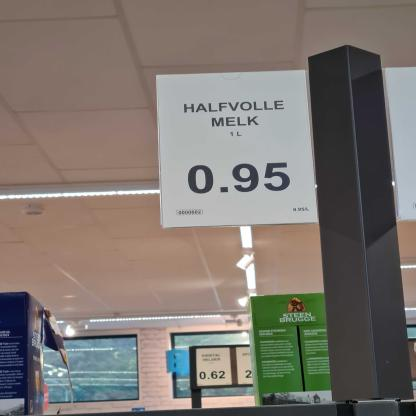prtg: (157, 71, 319, 230)
